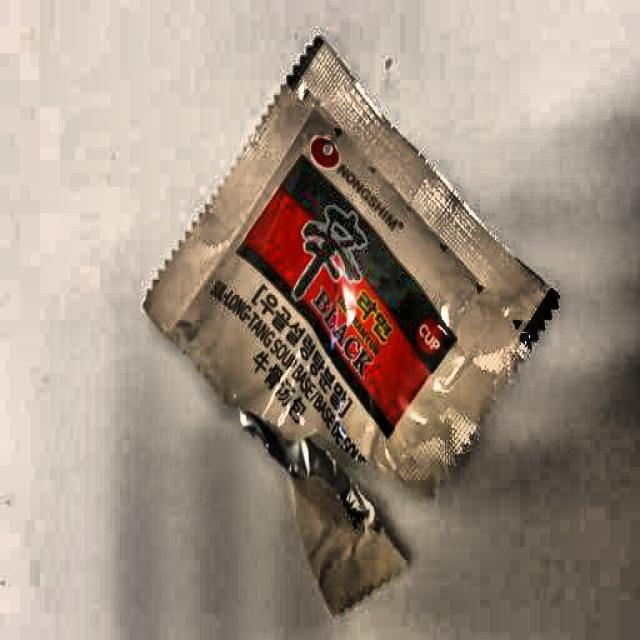trash: (138, 32, 540, 583)
